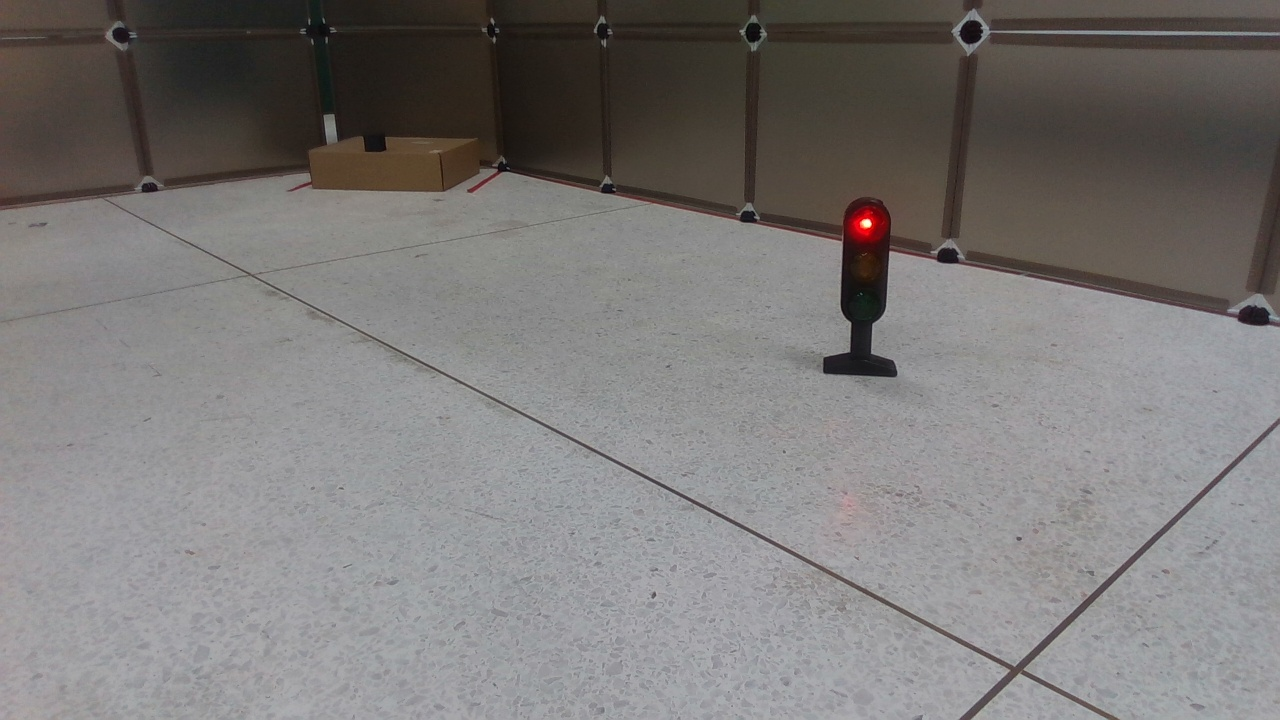Red traffic light: (822, 194, 896, 383)
